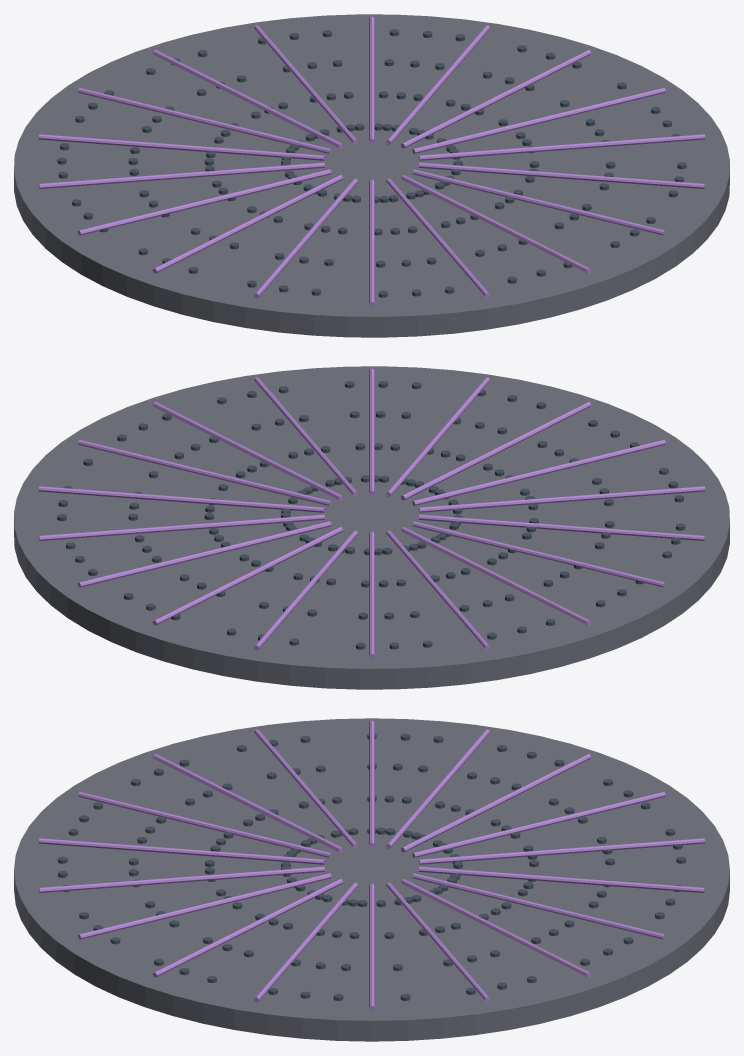
Rendered from 32_L77_BarrierSelectivePolishingPad.glb.
3 views of the same model, one above another, from view 1: azimuth 30°, elevation 25°; view 2: azimuth 150°, elevation 25°; view 3: azimuth 270°, elevation 25° (orthographic).
Visible parts, largest first — view 1: BarrierSelectivePolishingPad_Node_0000, BarrierSelectivePolishingPad_Node_0174, BarrierSelectivePolishingPad_Node_0183, BarrierSelectivePolishingPad_Node_0175, BarrierSelectivePolishingPad_Node_0184, BarrierSelectivePolishingPad_Node_0173, BarrierSelectivePolishingPad_Node_0185, BarrierSelectivePolishingPad_Node_0176, BarrierSelectivePolishingPad_Node_0182, BarrierSelectivePolishingPad_Node_0181, BarrierSelectivePolishingPad_Node_0186, BarrierSelectivePolishingPad_Node_0190 (+7 smaller); view 2: BarrierSelectivePolishingPad_Node_0000, BarrierSelectivePolishingPad_Node_0190, BarrierSelectivePolishingPad_Node_0180, BarrierSelectivePolishingPad_Node_0189, BarrierSelectivePolishingPad_Node_0181, BarrierSelectivePolishingPad_Node_0179, BarrierSelectivePolishingPad_Node_0188, BarrierSelectivePolishingPad_Node_0173, BarrierSelectivePolishingPad_Node_0182, BarrierSelectivePolishingPad_Node_0178, BarrierSelectivePolishingPad_Node_0183, BarrierSelectivePolishingPad_Node_0174 (+7 smaller); view 3: BarrierSelectivePolishingPad_Node_0000, BarrierSelectivePolishingPad_Node_0178, BarrierSelectivePolishingPad_Node_0177, BarrierSelectivePolishingPad_Node_0187, BarrierSelectivePolishingPad_Node_0186, BarrierSelectivePolishingPad_Node_0176, BarrierSelectivePolishingPad_Node_0188, BarrierSelectivePolishingPad_Node_0179, BarrierSelectivePolishingPad_Node_0185, BarrierSelectivePolishingPad_Node_0184, BarrierSelectivePolishingPad_Node_0189, BarrierSelectivePolishingPad_Node_0180 (+7 smaller).
Part boxes in pixels (x1,y1,x2,y2): BarrierSelectivePolishingPad_Node_0000: (14, 14, 729, 337); BarrierSelectivePolishingPad_Node_0174: (419, 134, 705, 160); BarrierSelectivePolishingPad_Node_0183: (38, 162, 324, 188); BarrierSelectivePolishingPad_Node_0175: (419, 162, 705, 188); BarrierSelectivePolishingPad_Node_0184: (38, 134, 324, 160); BarrierSelectivePolishingPad_Node_0173: (412, 87, 665, 153); BarrierSelectivePolishingPad_Node_0185: (78, 87, 331, 153); BarrierSelectivePolishingPad_Node_0176: (412, 169, 665, 235); BarrierSelectivePolishingPad_Node_0182: (78, 169, 331, 235); BarrierSelectivePolishingPad_Node_0181: (152, 175, 342, 273); BarrierSelectivePolishingPad_Node_0186: (153, 50, 342, 148); BarrierSelectivePolishingPad_Node_0190: (401, 50, 590, 148); BarrierSelectivePolishingPad_Node_0000: (14, 366, 729, 689); BarrierSelectivePolishingPad_Node_0190: (38, 486, 324, 512); BarrierSelectivePolishingPad_Node_0180: (419, 486, 705, 512); BarrierSelectivePolishingPad_Node_0189: (38, 514, 324, 540); BarrierSelectivePolishingPad_Node_0181: (419, 514, 705, 540); BarrierSelectivePolishingPad_Node_0179: (412, 439, 665, 505); BarrierSelectivePolishingPad_Node_0188: (78, 521, 331, 587); BarrierSelectivePolishingPad_Node_0173: (78, 439, 331, 505); BarrierSelectivePolishingPad_Node_0182: (412, 521, 665, 587); BarrierSelectivePolishingPad_Node_0178: (401, 402, 590, 500); BarrierSelectivePolishingPad_Node_0183: (401, 527, 591, 625); BarrierSelectivePolishingPad_Node_0174: (153, 402, 342, 500); BarrierSelectivePolishingPad_Node_0000: (14, 718, 729, 1041); BarrierSelectivePolishingPad_Node_0178: (39, 838, 324, 864); BarrierSelectivePolishingPad_Node_0177: (39, 866, 324, 892); BarrierSelectivePolishingPad_Node_0187: (419, 866, 704, 892); BarrierSelectivePolishingPad_Node_0186: (419, 838, 704, 864); BarrierSelectivePolishingPad_Node_0176: (78, 873, 331, 939); BarrierSelectivePolishingPad_Node_0188: (412, 873, 665, 939); BarrierSelectivePolishingPad_Node_0179: (78, 792, 331, 857); BarrierSelectivePolishingPad_Node_0185: (412, 792, 665, 857); BarrierSelectivePolishingPad_Node_0184: (401, 754, 590, 852); BarrierSelectivePolishingPad_Node_0189: (401, 879, 590, 977); BarrierSelectivePolishingPad_Node_0180: (153, 754, 342, 852).
Size of the model in its own units: 2.82 by 0.118 by 2.82.
